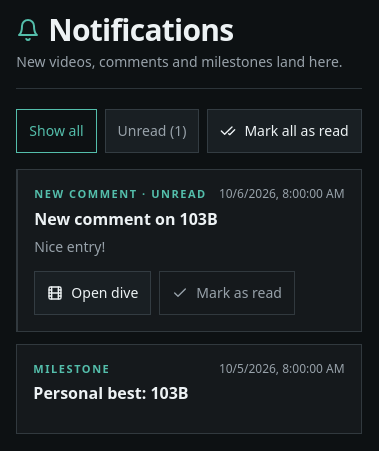
it: Notifications page › filters to unread only
The width and height of the screenshot is (379, 451).
Expected: the heading "New comment on 103B" is shown, [34,208,218,230]
What coordinates should you click on to do the following:
click the button "Unread (1)"
I would click on:
 (152, 131)
Its box is [105,109,199,153].
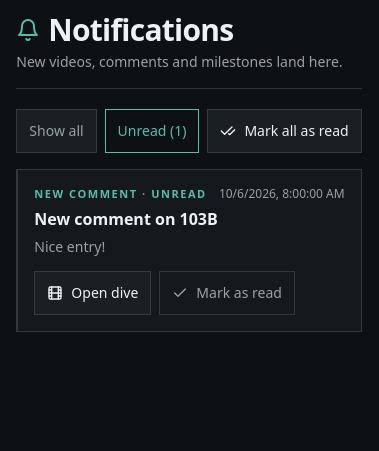
Expected: the heading "New comment on 103B" is shown, [34,208,218,230]
Now the heading "Personal best: 103B" is gone
What coordinates should you click on to do the following:
click the button "Show all"
I would click on:
 (57, 131)
Its box is [16,109,97,153].
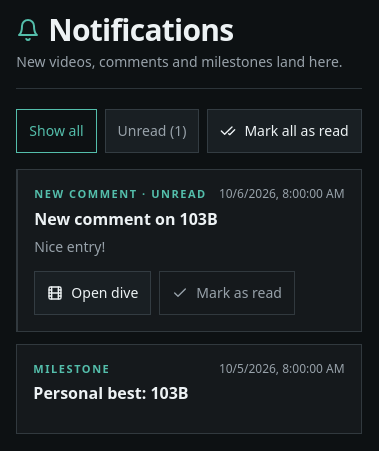
Now the heading "Personal best: 103B" is shown, box [33,382,189,404]
